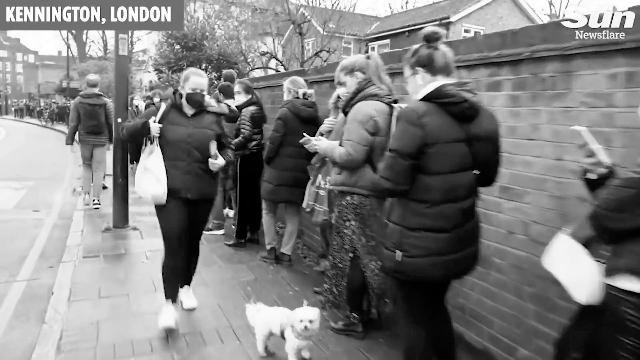berdiri: (373, 26, 492, 360), (312, 52, 406, 344)
berjalan: (131, 59, 229, 340)
